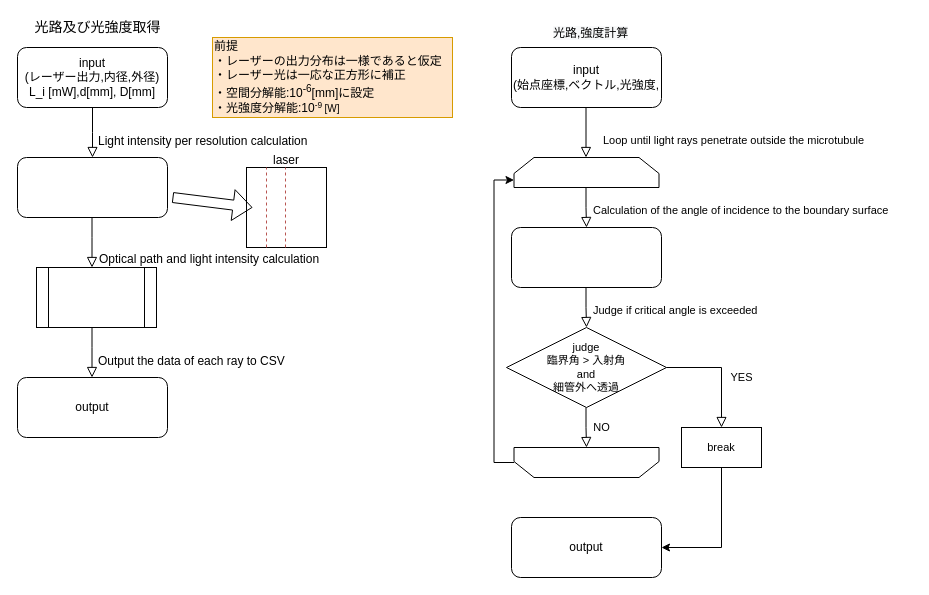
This 929x595 diagram has some shape labels left out. Here are the shapes that lost their labels. From the top down, the centre of each, then its label:
point (92, 187): calculate 分解能あたりの強度計算 i_per_s[mW]
point (586, 172): loop 細管外へ透過するまで
point (586, 257): calculate 境界への入射角算出 θ[rad]
point (96, 297): calculate 光路,強度計算
